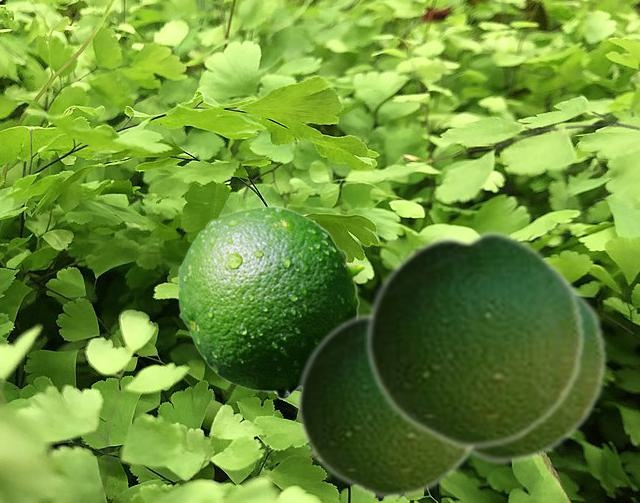dalandan: (364, 227, 585, 451), (177, 205, 365, 399), (295, 308, 476, 500), (469, 279, 607, 465)
